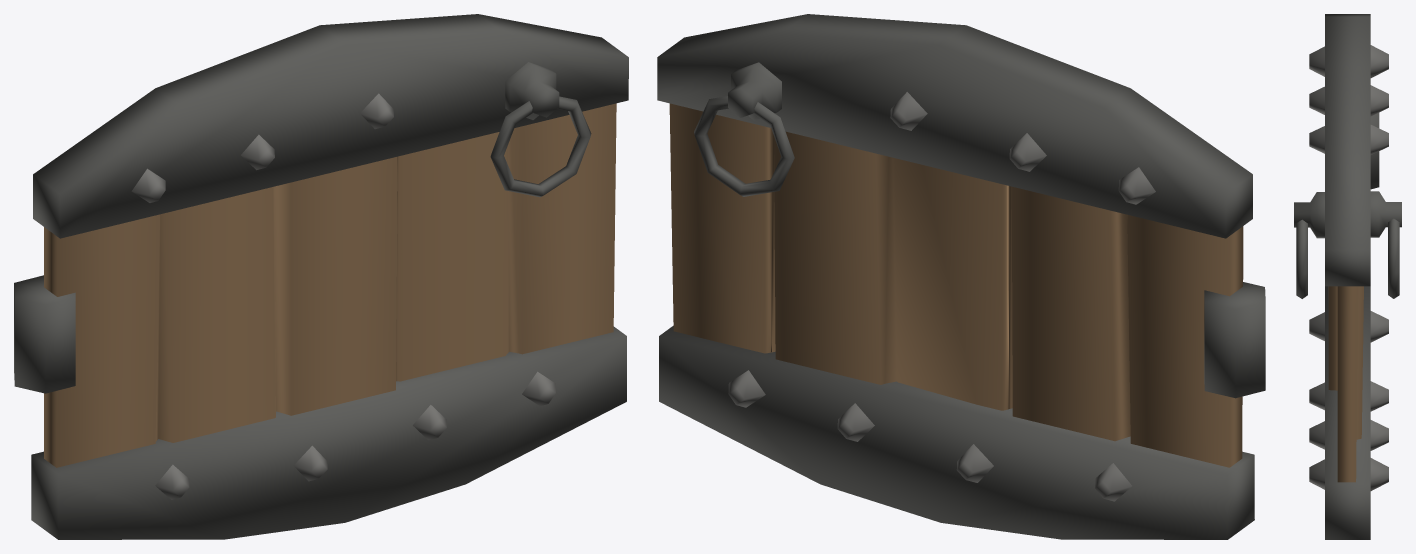
File: rpgpp_ag_door_01_bottom.fbx
3 views of the same model, side by side, from view 1: azimuth 30°, elevation 25°; view 2: azimuth 150°, elevation 25°; view 3: azimuth 270°, elevation 25° (orthographic). The views are drawn at different scales.
Visible parts, largest first — view 1: rpgpp_ag_door_01_bottom; view 2: rpgpp_ag_door_01_bottom; view 3: rpgpp_ag_door_01_bottom.
Boxes of the visible parts, x1,y1,x2,y2 form: rpgpp_ag_door_01_bottom: (14, 14, 628, 539); rpgpp_ag_door_01_bottom: (657, 14, 1265, 539); rpgpp_ag_door_01_bottom: (1294, 14, 1401, 539).
Bounding box in the file's own units: 1.69 × 1.29 × 0.3128.
